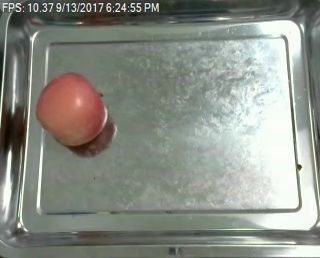Apple: (34, 69, 109, 151)
